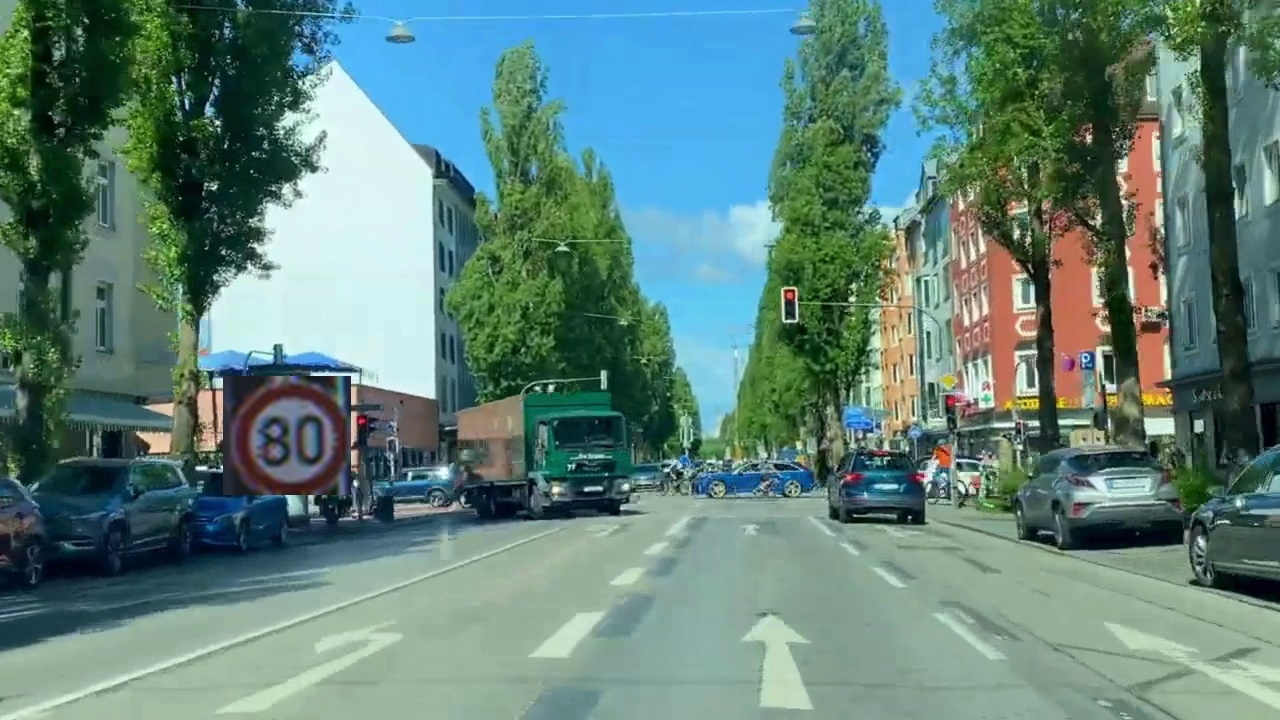Speed 80: (223, 376, 351, 495)
